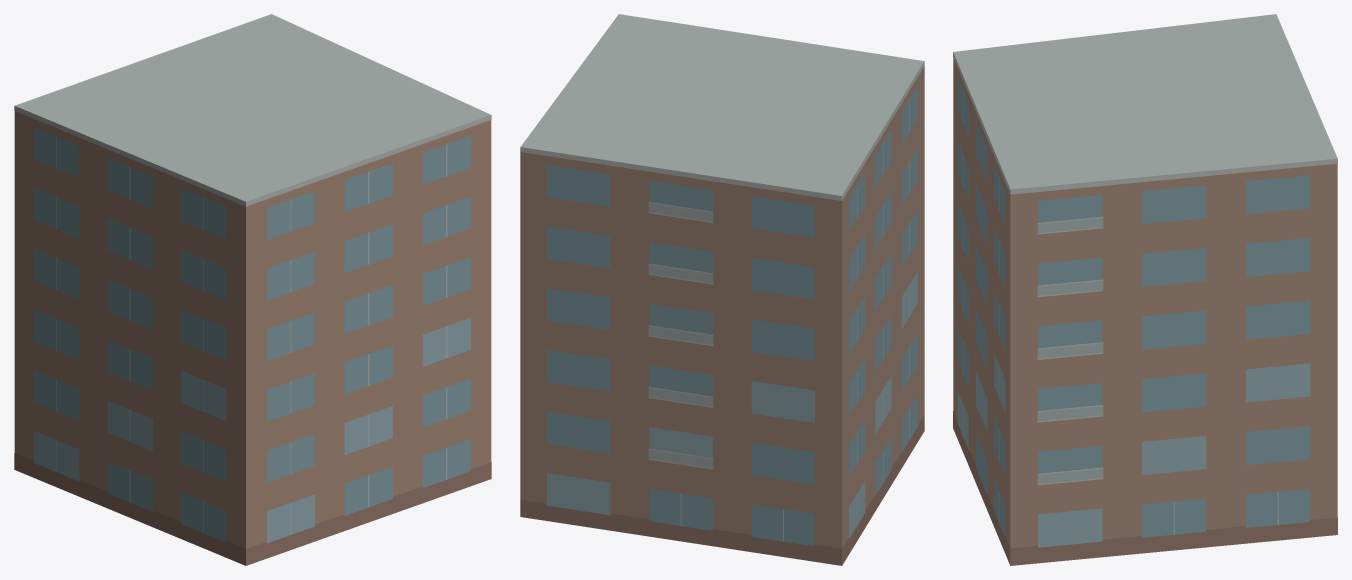
Rendered from survey-upis-32837415.glb.
3 views of the same model, side by side, from view 1: azimuth 30°, elevation 25°; view 2: azimuth 150°, elevation 25°; view 3: azimuth 270°, elevation 25° (orthographic). The views are drawn at different scales.
Parts seen in each view (by area): view 1: survey-upis-32837415.tmp; view 2: survey-upis-32837415.tmp; view 3: survey-upis-32837415.tmp.
Boxes of the visible parts, left/top/right/bottom form: survey-upis-32837415.tmp: left=14, top=14, right=491, bottom=565; survey-upis-32837415.tmp: left=520, top=14, right=924, bottom=565; survey-upis-32837415.tmp: left=953, top=14, right=1337, bottom=565.
Size of the model in its own units: 18.33 by 18.3 by 16.97.
